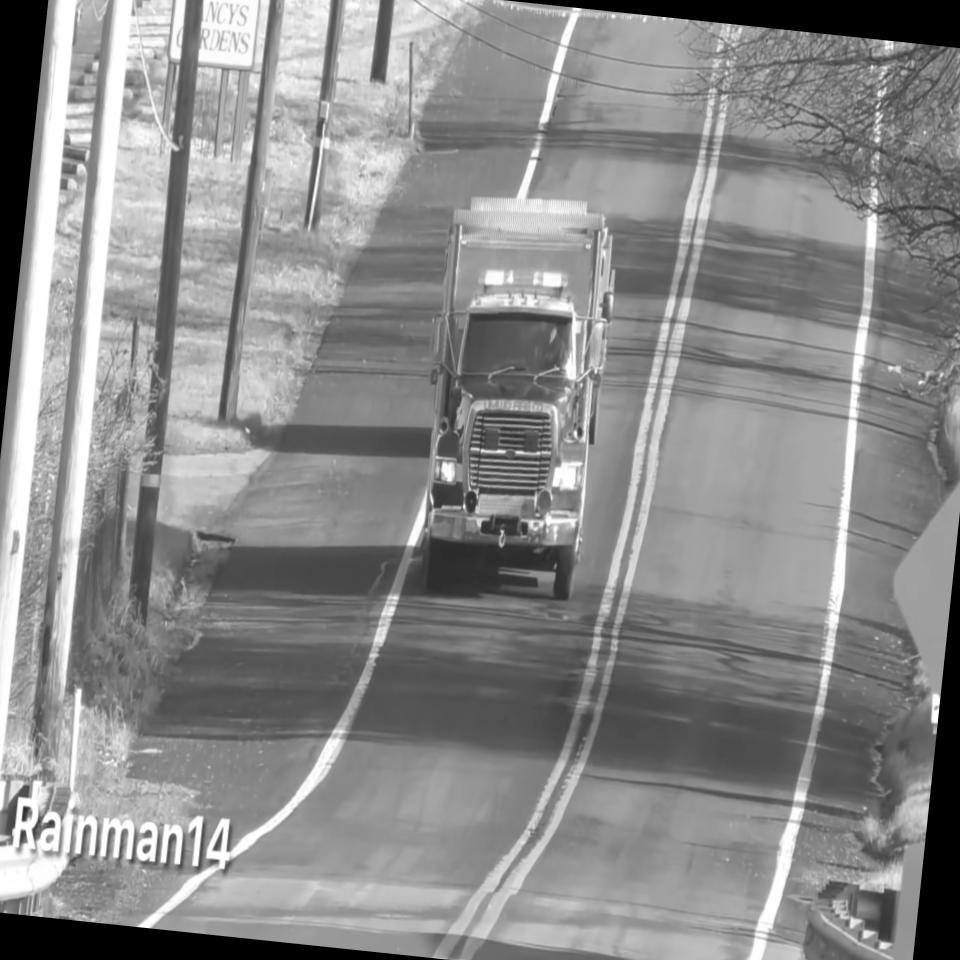viatura: (404, 187, 624, 598)
